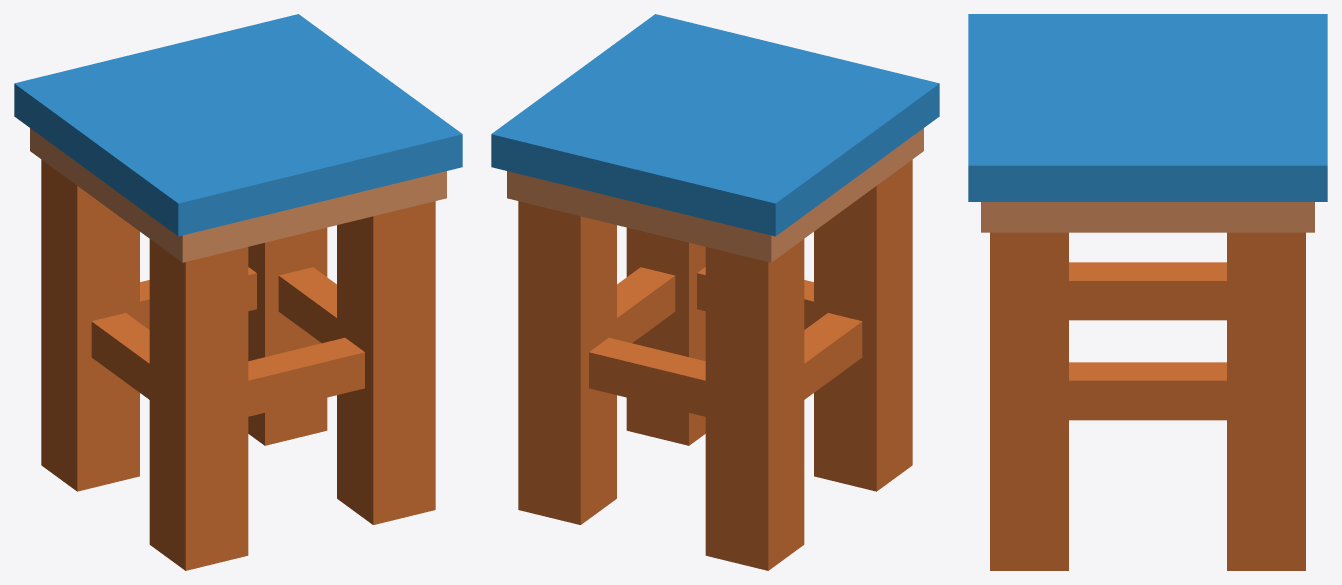
The model's file is Wood Chair for Wall Table lv3.fbx.
The picture shows the model from 3 angles, left to right: view 1: azimuth 30°, elevation 25°; view 2: azimuth 150°, elevation 25°; view 3: azimuth 270°, elevation 25°; orthographic projection. The views are drawn at different scales.
Visible parts, largest first — view 1: Wood_Chair_lv3; view 2: Wood_Chair_lv3; view 3: Wood_Chair_lv3.
Part boxes in pixels (box(x1,y1,x2,y2)): Wood_Chair_lv3: box(14, 14, 462, 570); Wood_Chair_lv3: box(491, 14, 939, 570); Wood_Chair_lv3: box(968, 14, 1327, 570).
Size of the model in its own units: 88.6 by 113 by 88.6.
